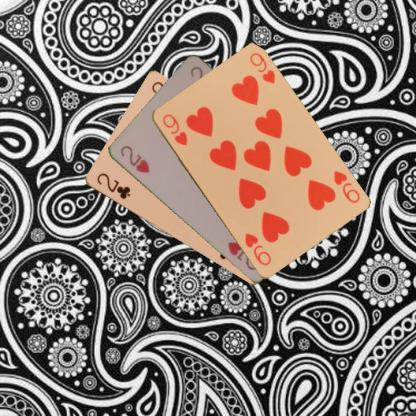2c: (93, 170, 132, 201)
2h: (117, 142, 151, 174)
9h: (331, 168, 361, 204), (160, 111, 188, 147)
